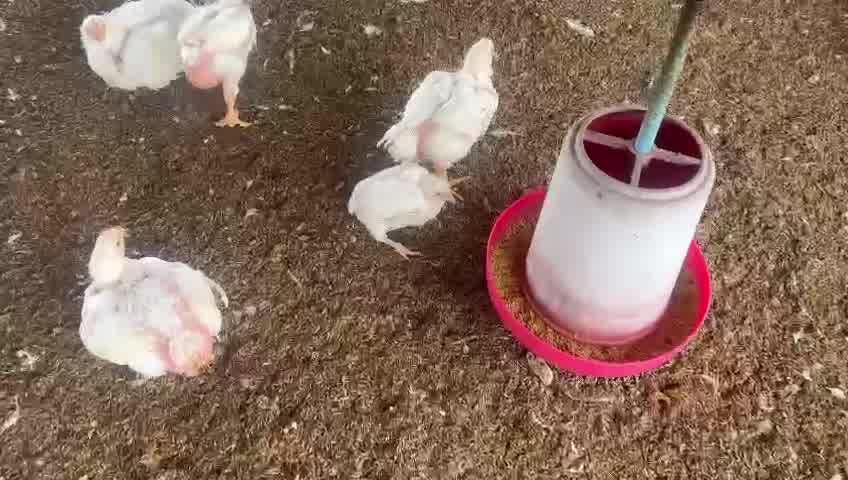AbNormal: (76, 227, 226, 378), (348, 170, 462, 259), (81, 4, 197, 88)
Normal: (385, 35, 496, 173), (190, 5, 254, 126)
